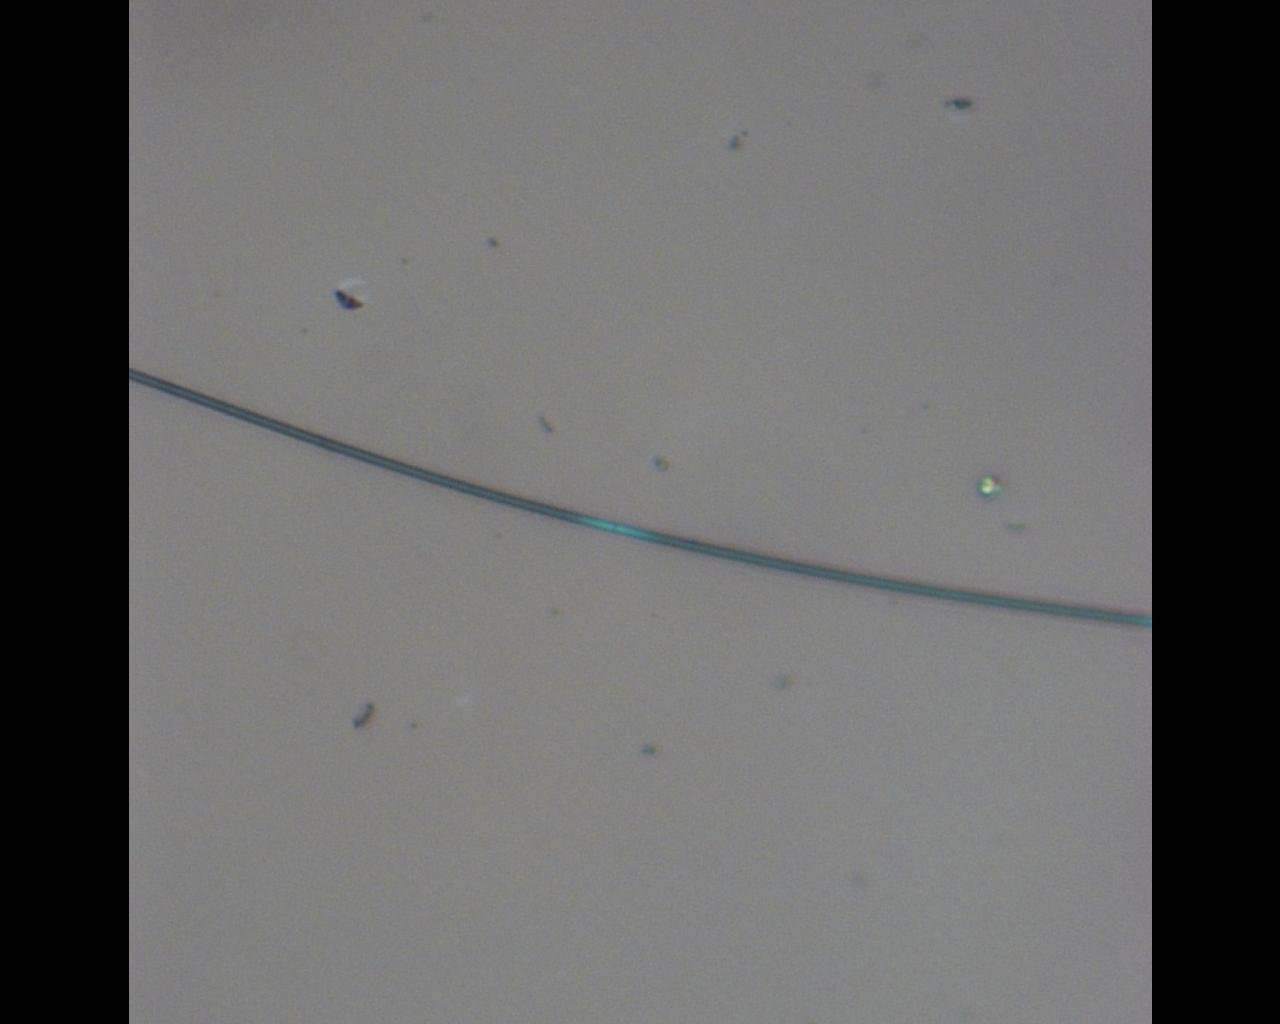fiber: (127, 364, 1151, 630)
